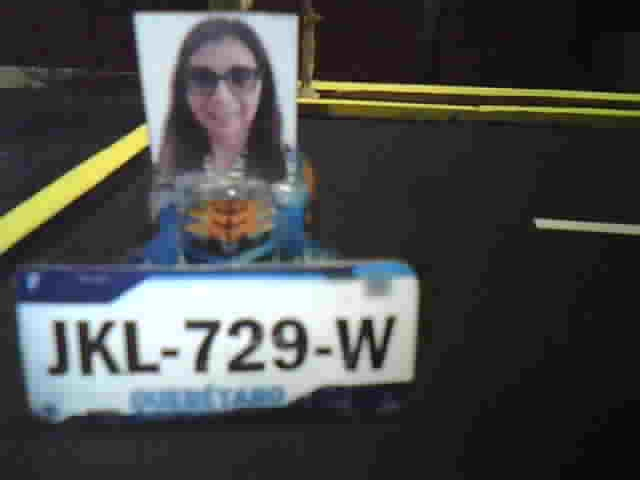PLACA: (13, 258, 423, 426)
ROSTRO: (153, 12, 295, 194)
